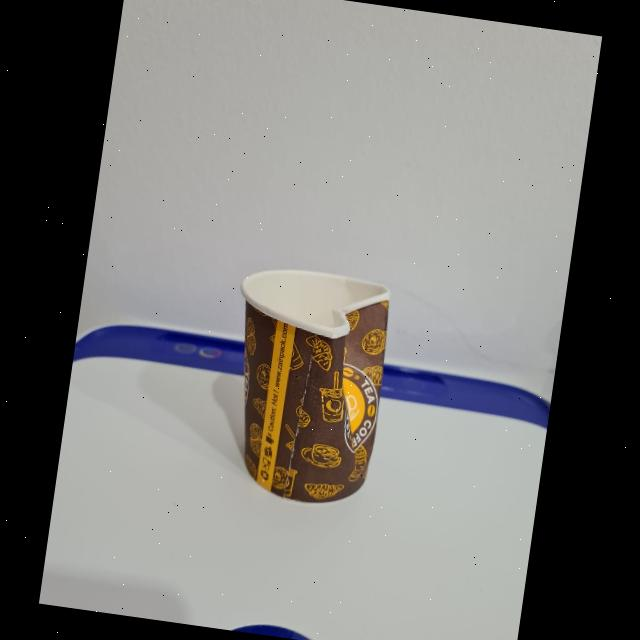trash: (197, 257, 428, 520)
